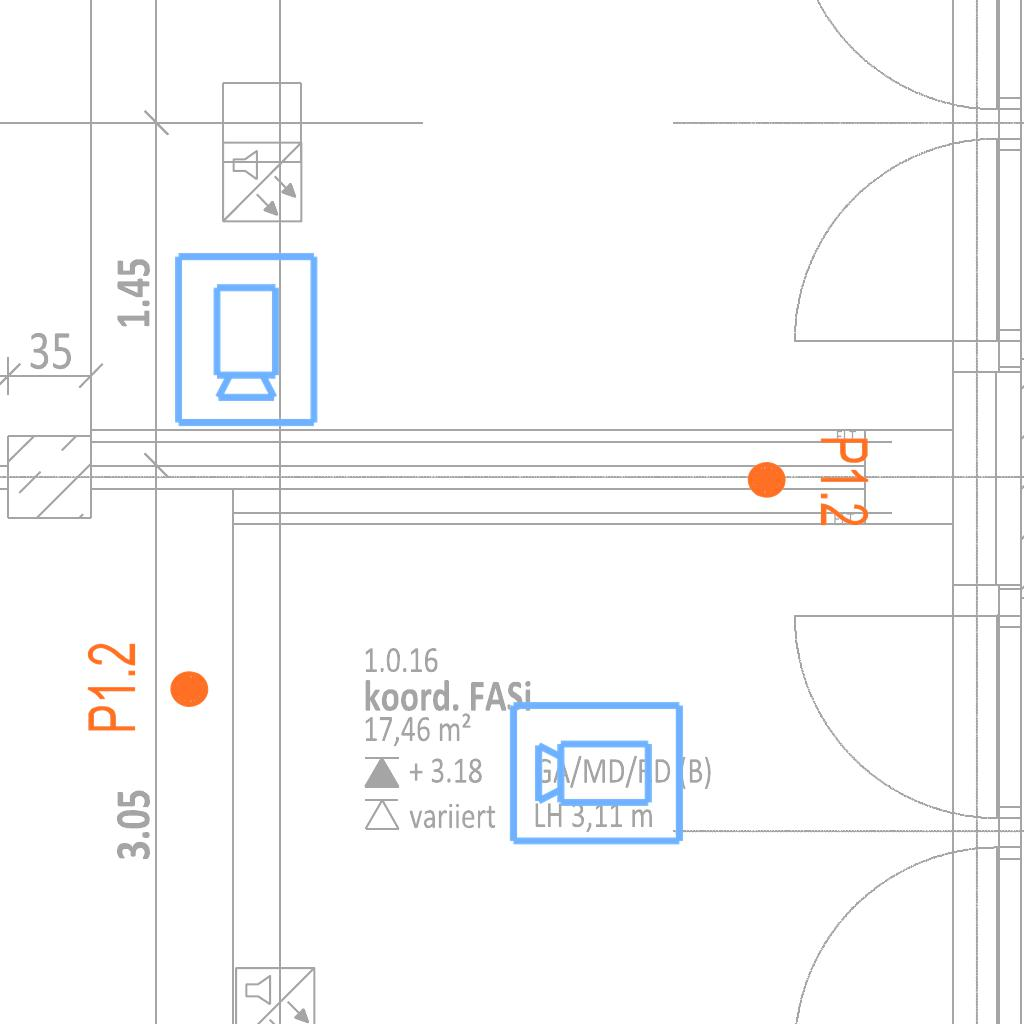Downlight_LED_Einbauleuchten_Flur: (84, 641, 212, 734), (744, 435, 872, 528)
KFO_Kamera_mit_Festobjektiv: (168, 248, 322, 430), (506, 695, 688, 849)
